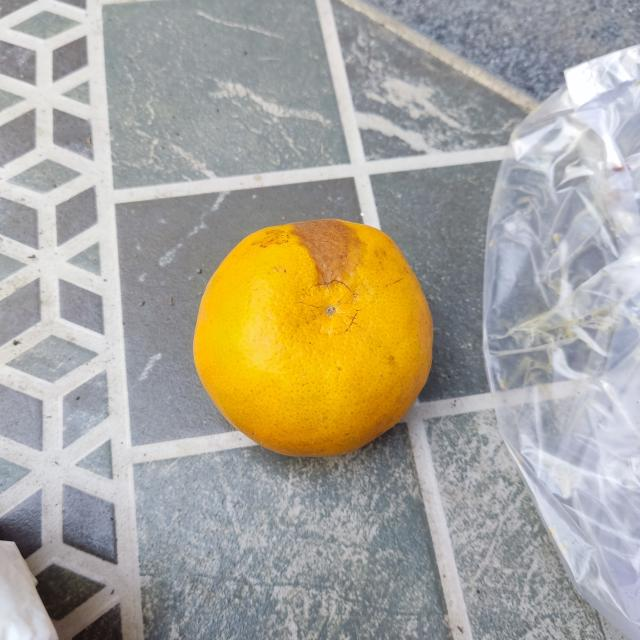orange: (190, 215, 437, 464)
